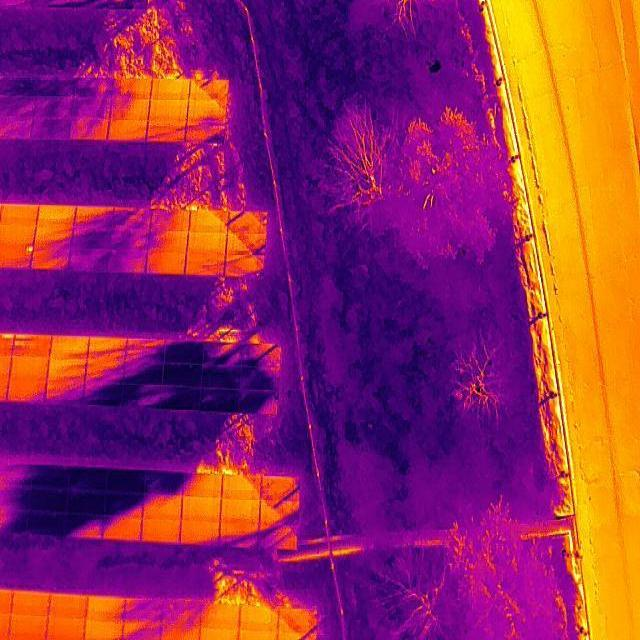Cell: (0, 245, 35, 267)
Cell-Multi: (12, 334, 50, 358)
No-Anomaly: (140, 518, 181, 542), (8, 615, 47, 640), (181, 498, 221, 522), (10, 591, 49, 615), (239, 606, 279, 629), (9, 356, 47, 380), (87, 596, 125, 620), (202, 604, 240, 628), (147, 253, 187, 275), (220, 499, 260, 521), (109, 120, 148, 142), (49, 595, 87, 617), (86, 619, 125, 640), (187, 232, 227, 252), (149, 100, 189, 120), (0, 205, 39, 225), (47, 619, 86, 639), (152, 79, 189, 99), (0, 224, 35, 244), (38, 206, 74, 225)
Shadowing: (219, 521, 259, 549), (259, 524, 299, 550), (8, 379, 47, 405), (163, 363, 203, 388), (279, 608, 317, 634), (203, 342, 242, 367), (242, 343, 281, 368), (125, 360, 164, 385), (163, 385, 202, 410), (185, 252, 225, 276), (47, 380, 87, 404), (103, 518, 143, 542), (179, 522, 219, 546), (87, 382, 125, 407), (151, 208, 190, 232), (127, 338, 166, 362), (241, 366, 280, 390), (261, 478, 300, 502), (29, 488, 68, 512), (142, 496, 181, 520), (107, 470, 144, 495), (68, 248, 110, 270), (221, 476, 261, 499), (260, 501, 300, 524), (125, 384, 163, 408), (240, 390, 278, 414), (68, 491, 106, 515), (29, 512, 67, 536), (164, 600, 202, 624), (185, 120, 226, 142), (181, 475, 222, 497), (225, 256, 264, 279), (51, 336, 90, 359), (202, 366, 241, 389), (30, 466, 69, 489), (33, 245, 70, 269), (87, 358, 124, 382), (70, 468, 107, 492), (104, 494, 144, 516), (112, 99, 150, 122), (112, 209, 151, 231), (72, 225, 111, 247), (108, 250, 147, 272), (125, 599, 164, 621), (166, 341, 203, 364), (70, 118, 108, 140), (202, 389, 240, 411), (143, 473, 181, 495), (149, 120, 188, 141), (227, 234, 266, 255), (114, 78, 151, 100), (189, 211, 229, 231), (147, 232, 187, 252), (72, 98, 112, 118), (110, 229, 148, 250), (31, 118, 70, 138), (74, 206, 113, 226), (48, 359, 87, 379), (34, 98, 73, 118), (187, 100, 226, 120), (229, 212, 267, 232), (34, 226, 72, 246), (89, 338, 127, 358), (68, 515, 104, 536), (75, 76, 114, 95), (124, 621, 162, 640), (190, 81, 228, 100), (39, 76, 75, 96)
